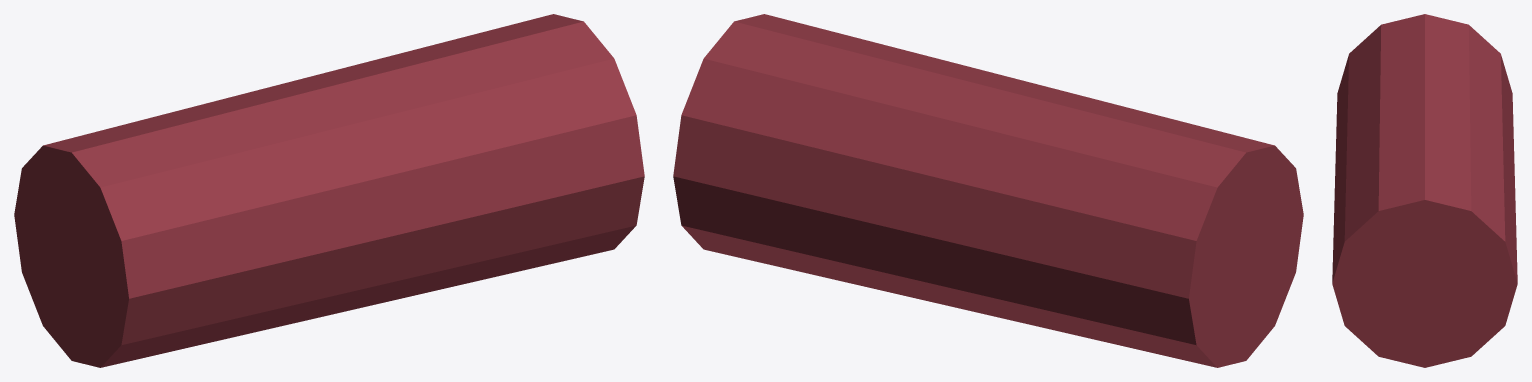
Rendered from SinSleeveRight.fbx.
The picture shows the model from 3 angles, left to right: view 1: azimuth 30°, elevation 25°; view 2: azimuth 150°, elevation 25°; view 3: azimuth 270°, elevation 25°; orthographic projection. The views are drawn at different scales.
Parts seen in each view (by area): view 1: SinSleeveRight; view 2: SinSleeveRight; view 3: SinSleeveRight.
Boxes of the visible parts, <box> form: SinSleeveRight: <box>14,14,644,367</box>; SinSleeveRight: <box>673,14,1303,367</box>; SinSleeveRight: <box>1332,14,1517,367</box>.
Size of the model in its own units: 17.5 by 7.2 by 7.2.
